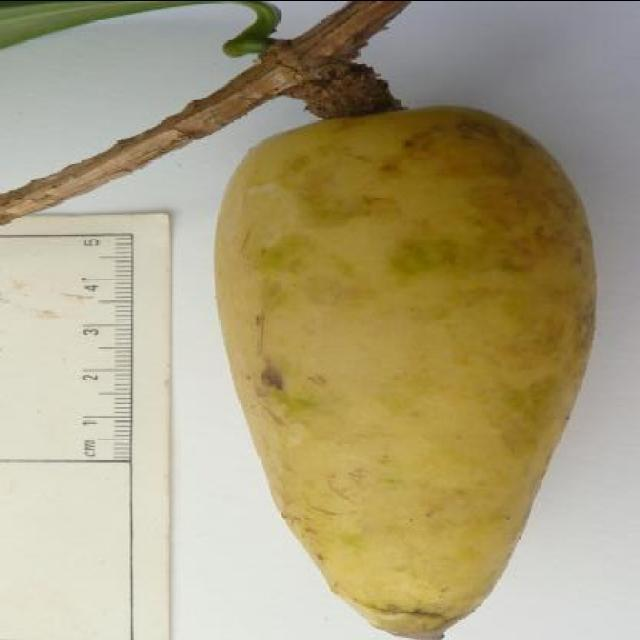Potato: (210, 103, 602, 640)
